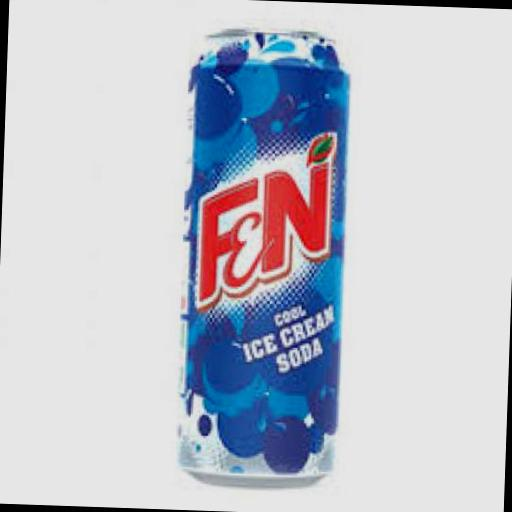metal: (174, 24, 350, 488)
